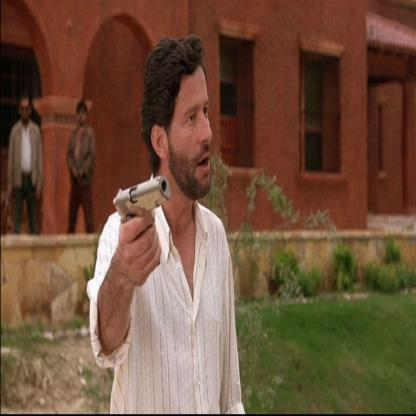gun: (102, 161, 176, 232)
